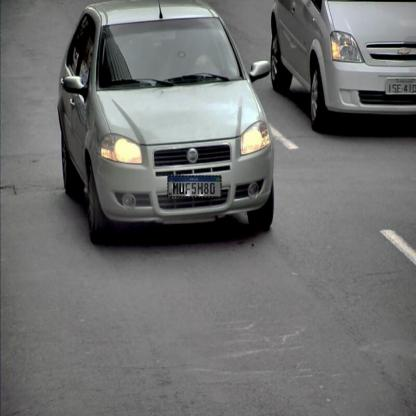PlacaM: (168, 176, 222, 198)
